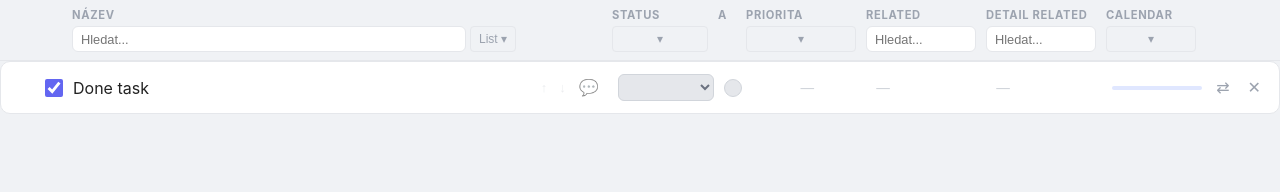
Test: TodoList › Subtask creation › shows a subtask input below a completed todo when it is double-clicked
The image size is (1280, 192).
Double-click the text "Done task": [111, 88] box left=73, top=78, right=149, bottom=98
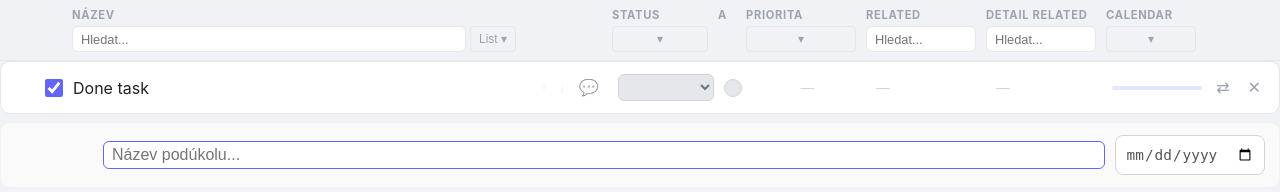
Now the field with placeholder "Název podúkolu..." is shown, box left=103, top=141, right=1105, bottom=169
